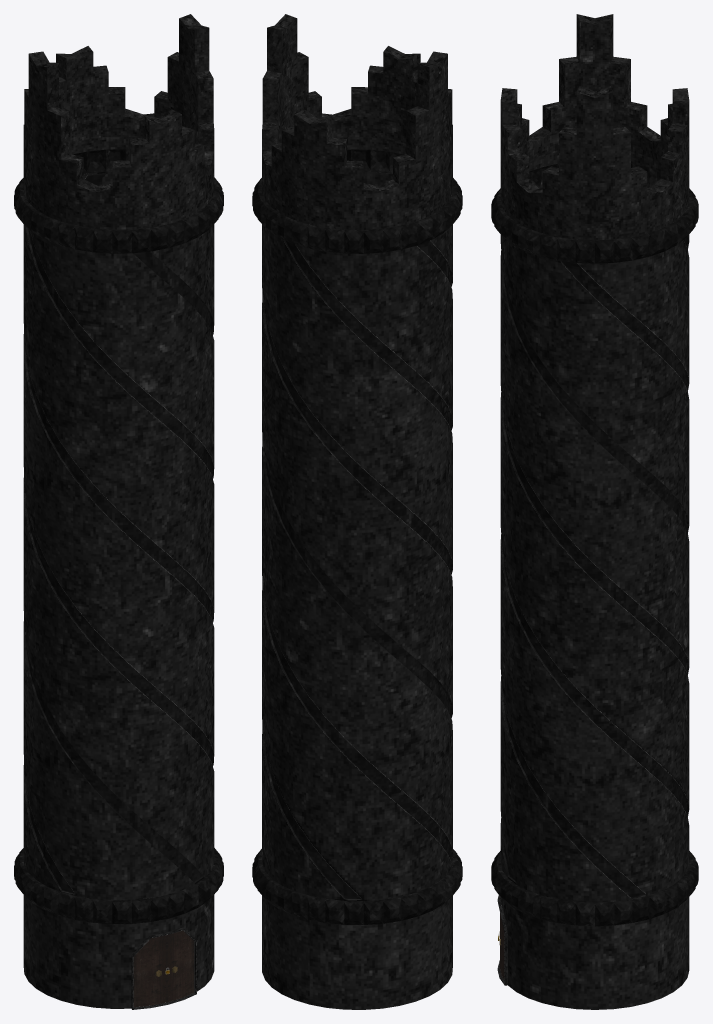
Rendered from ModeloTorreV3_Texturas.fbx.
3 renders of one model, left to right at view 1: azimuth 30°, elevation 25°; view 2: azimuth 150°, elevation 25°; view 3: azimuth 270°, elevation 25°, orthographic.
Visible parts, largest first — view 1: Torre, Puerta1, Puerta2; view 2: Torre; view 3: Torre.
Part boxes in pixels (x1=…): Torre: x1=14, y1=14, x2=223, y2=1009; Puerta1: x1=133, y1=935, x2=166, y2=1007; Puerta2: x1=167, y1=930, x2=194, y2=1002; Torre: x1=252, y1=14, x2=462, y2=1009; Torre: x1=491, y1=14, x2=698, y2=1009.
Bounding box in the file's own units: 219 × 1072 × 219.
3 materials, 3 textured.
